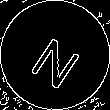N_NE: (24, 23, 86, 87)
